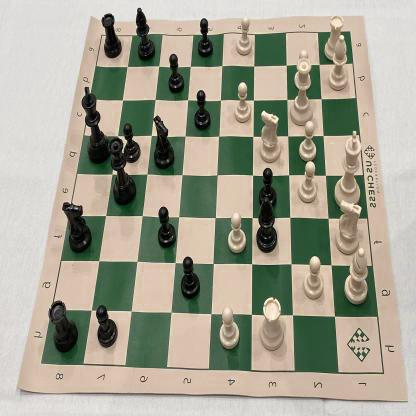black-bishop: (256, 197, 280, 254), (134, 5, 156, 64)
black-king: (80, 84, 110, 166)
black-knight: (61, 199, 92, 255), (150, 113, 176, 172)
black-pawn: (96, 304, 118, 350), (156, 204, 178, 250), (122, 121, 144, 166), (180, 254, 200, 300), (258, 166, 278, 207), (167, 52, 185, 94), (194, 89, 212, 131), (197, 17, 215, 58)
black-queen: (108, 135, 138, 208)
black-rook: (47, 298, 78, 356), (101, 11, 123, 60)
white-bishop: (343, 246, 370, 306), (326, 35, 352, 92)
white-king: (332, 127, 364, 208)
white-knight: (334, 200, 364, 257), (258, 108, 282, 164)
white-pawn: (218, 304, 242, 350), (302, 256, 324, 301), (296, 122, 320, 162), (227, 211, 248, 255), (297, 162, 318, 204), (235, 14, 254, 58), (233, 82, 252, 124), (293, 48, 311, 88)
white-queen: (289, 56, 314, 126)
white-rook: (260, 294, 288, 353), (323, 13, 345, 61)
